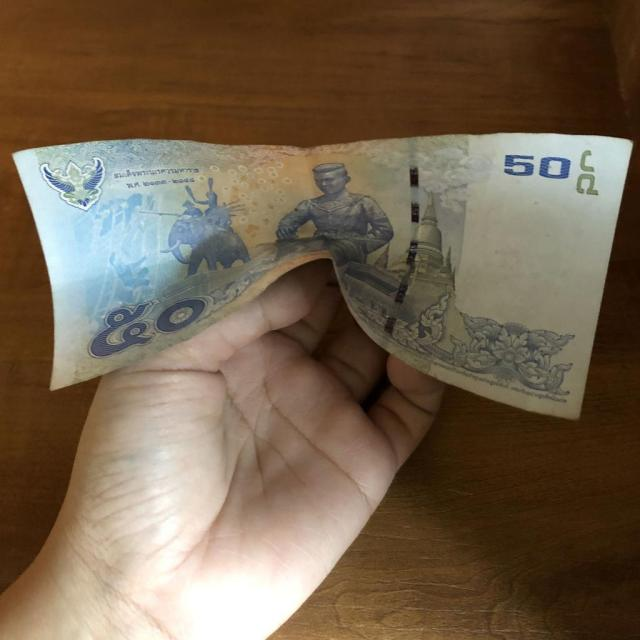THAI50: (14, 133, 632, 418)
